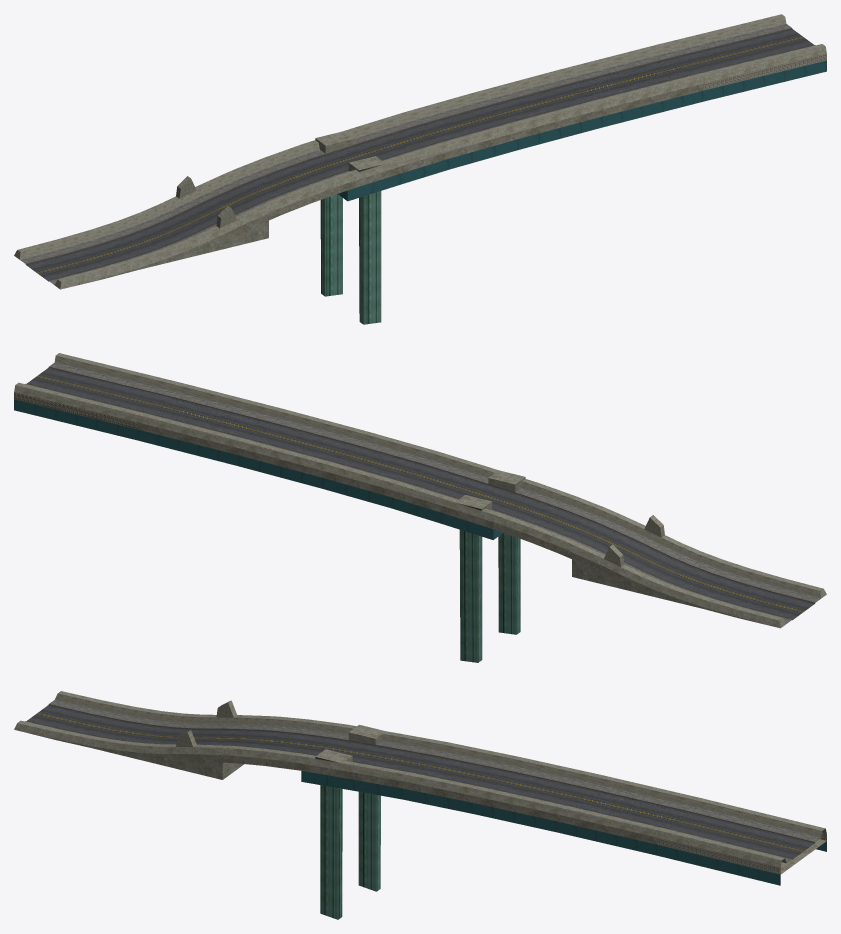
Rendered from sanpedbigbrid_las2.obj.
3 renders of one model, top to bottom at view 1: azimuth 30°, elevation 25°; view 2: azimuth 150°, elevation 25°; view 3: azimuth 330°, elevation 25°, orthographic.
Visible parts, largest first — view 1: sanpedbigbrid_las2; view 2: sanpedbigbrid_las2; view 3: sanpedbigbrid_las2.
Boxes of the visible parts, bbox=[...] form: sanpedbigbrid_las2: bbox=[14, 14, 826, 324]; sanpedbigbrid_las2: bbox=[14, 353, 826, 662]; sanpedbigbrid_las2: bbox=[14, 691, 826, 919].
Bounding box in the file's own units: 191 × 40.06 × 20.
